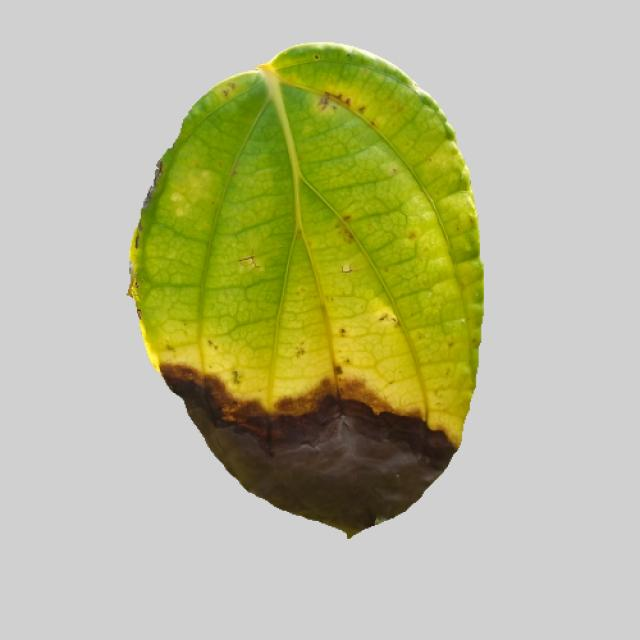leaf-blight: (99, 49, 512, 546)
